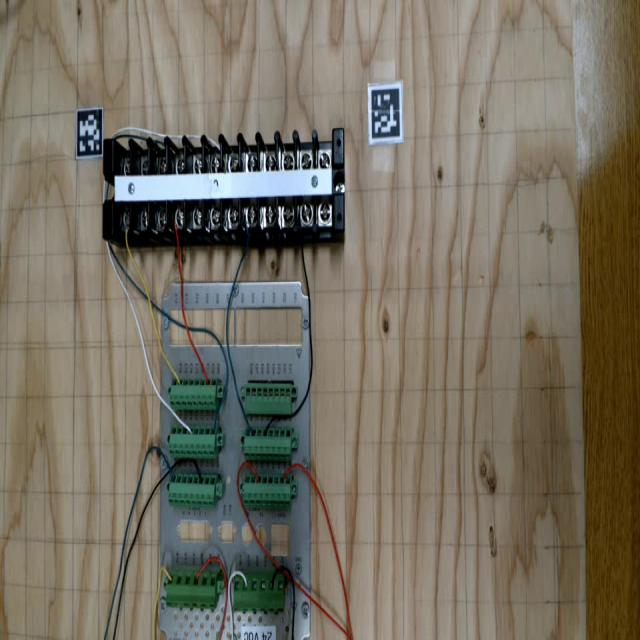Phillips_Block: (98, 129, 348, 241)
Terminal_1: (165, 572, 217, 609), (234, 575, 284, 612)
Terminal_2: (243, 471, 292, 510), (167, 473, 216, 509), (244, 427, 291, 462), (170, 425, 216, 459), (170, 378, 217, 411)
